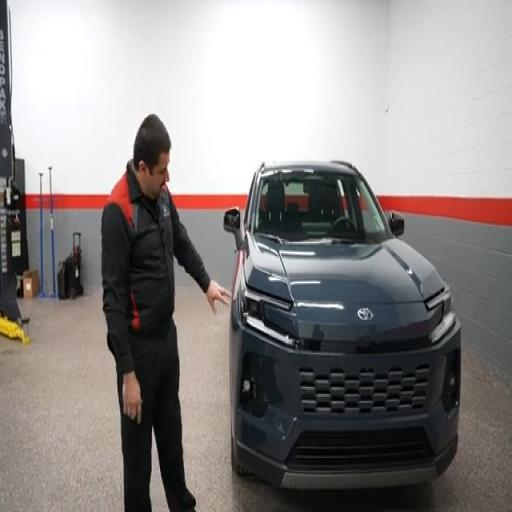bumper: (232, 323, 460, 489)
emblem: (358, 308, 373, 321)
grille: (300, 366, 429, 413), (287, 429, 432, 470)
headlight: (240, 282, 296, 347), (426, 286, 455, 344)
hood: (244, 237, 444, 345), (245, 237, 443, 305)
side_mirror: (224, 208, 242, 250), (388, 212, 404, 237)
wheel: (231, 436, 249, 476)
windshield: (253, 170, 389, 243)
